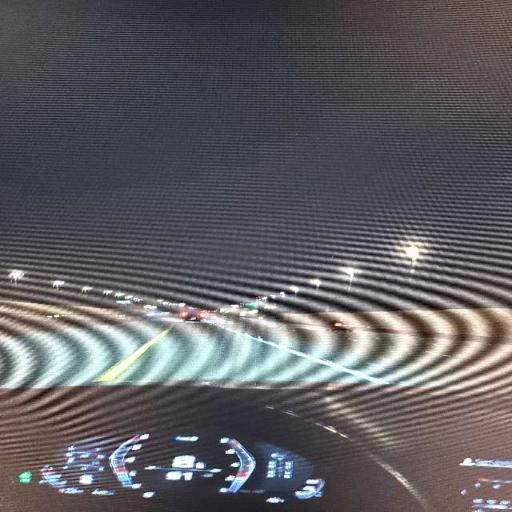car: (179, 310, 207, 321), (332, 320, 354, 331)
lane: (0, 318, 511, 388), (95, 328, 171, 382)
